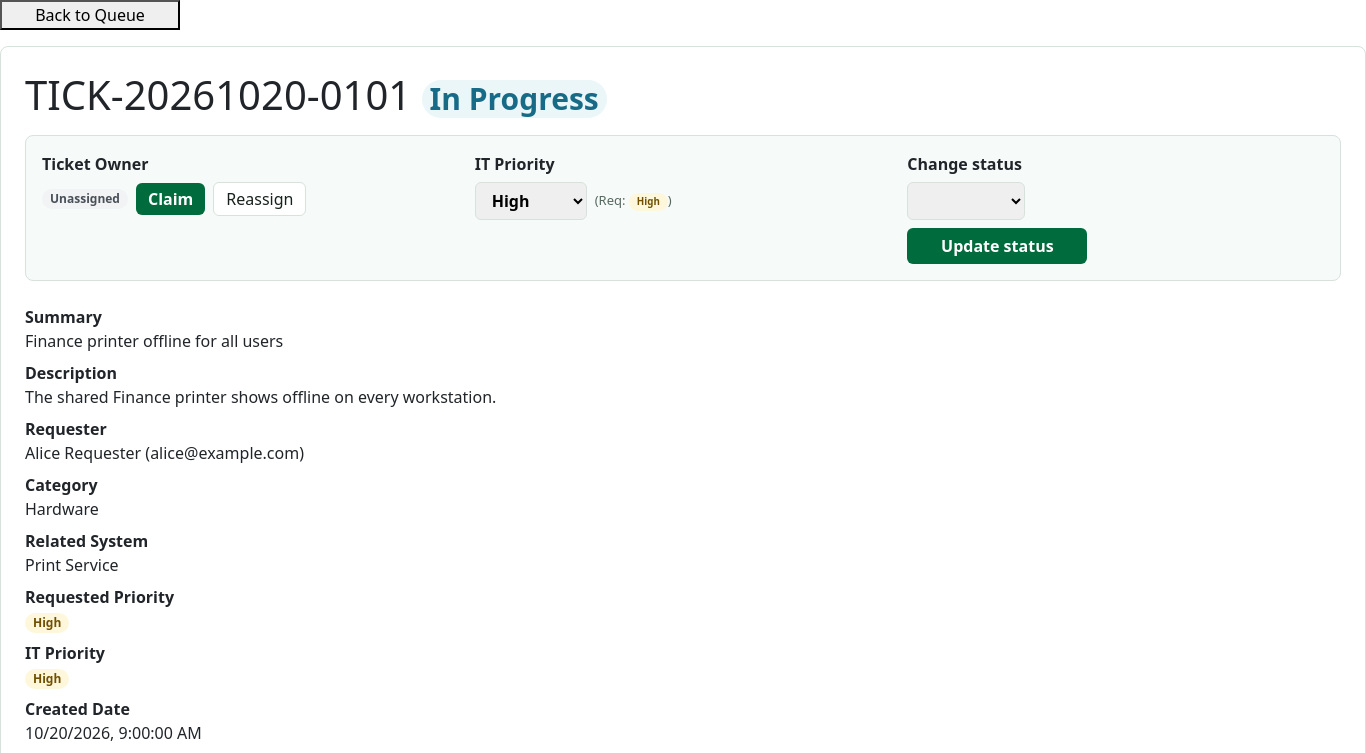
Test: Ticket workflow UI (UI-11 … UI-17) › UI-12: In Progress → Resolved asks for confirmation naming both statuses and sends nothing until confirmed
Expected: the heading "TICK-20261020-0101 In Progress" is shown, x1=25 y1=67 x2=607 y2=122
Select "Resolved" in the dropdown labelled "Change status" at (966, 201), box x1=907 y1=182 x2=1025 y2=220
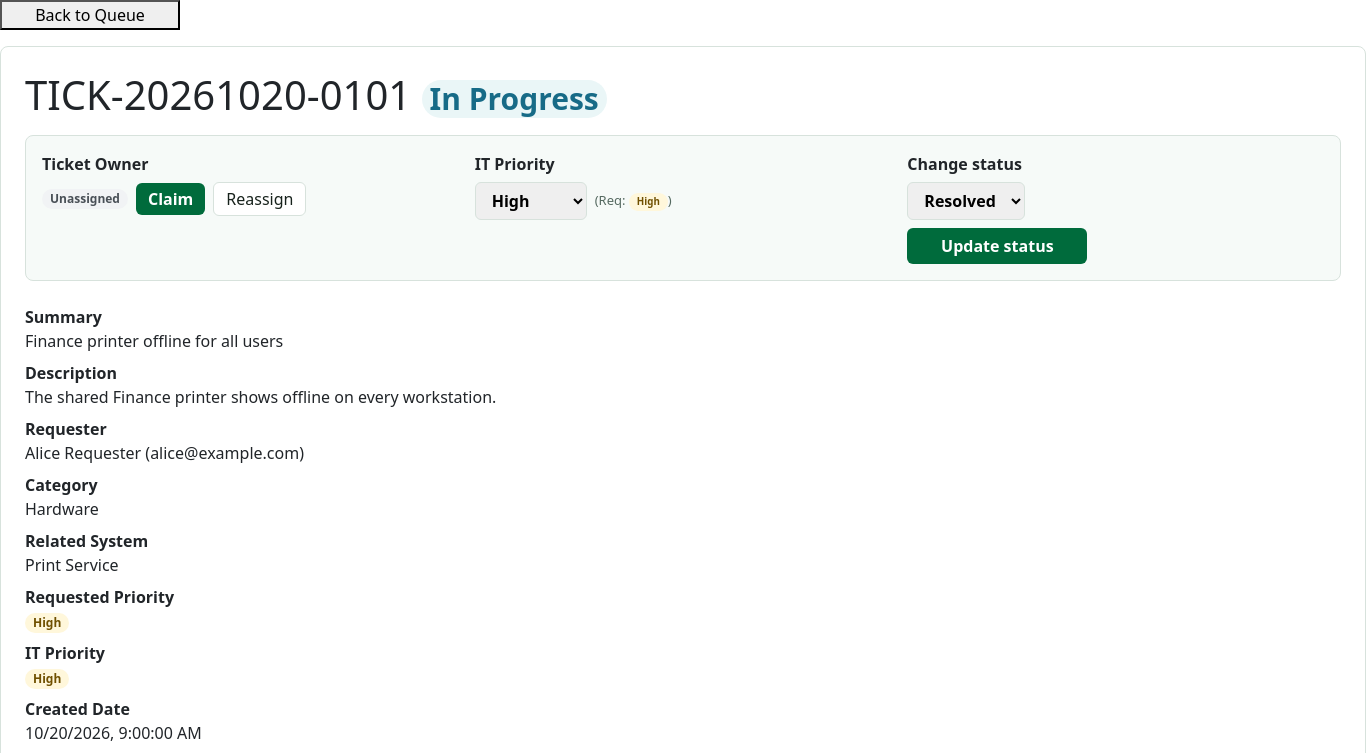
Click the button "Update status" at (997, 246), box x1=907 y1=228 x2=1087 y2=264
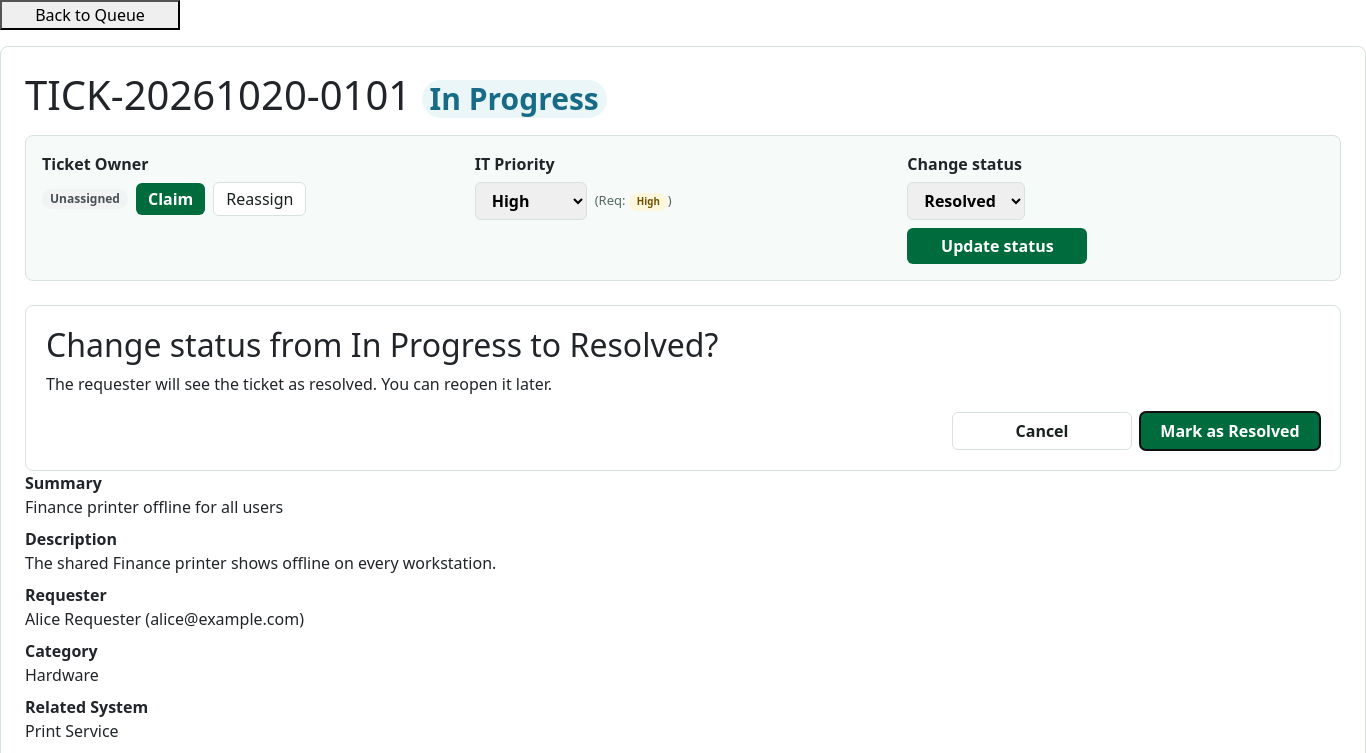
Click the button "Cancel" at (1042, 431), box x1=952 y1=412 x2=1132 y2=450
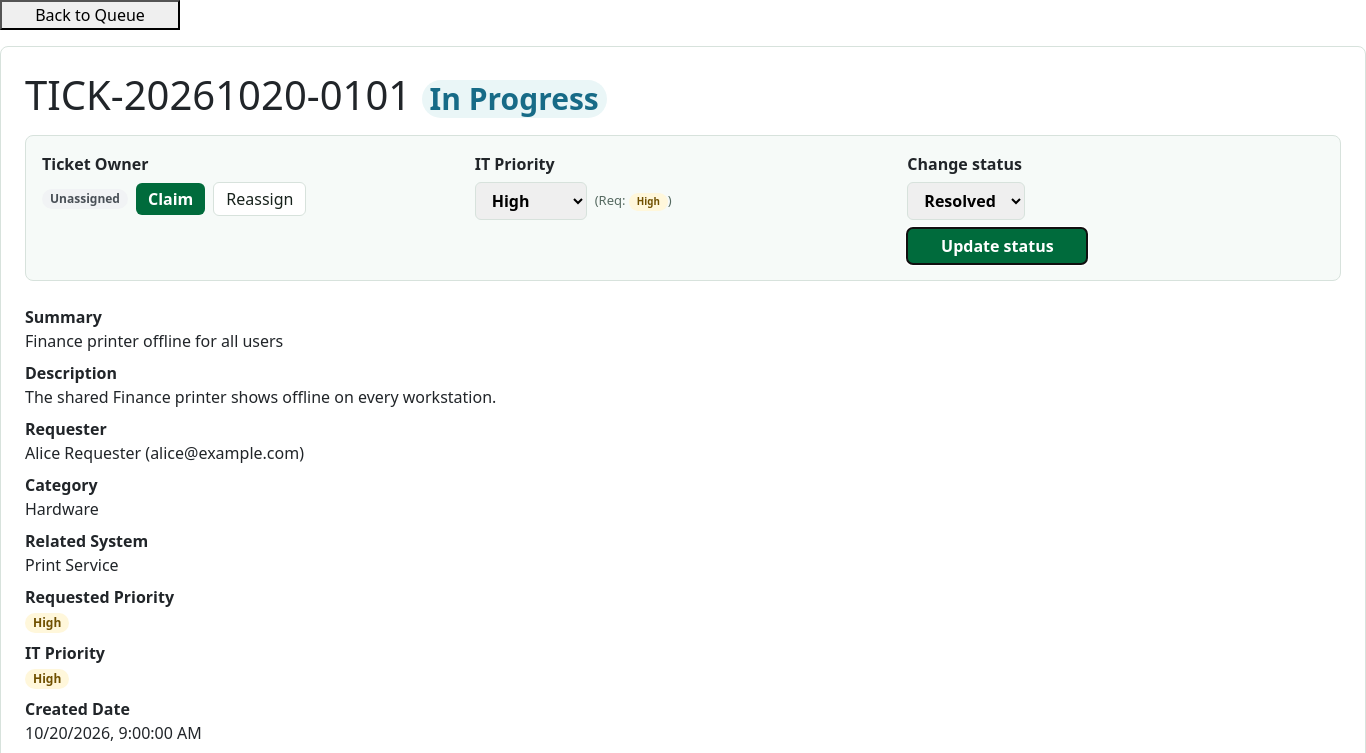
Now the dialog is gone
Click the button "Update status" at (997, 246), box x1=907 y1=228 x2=1087 y2=264
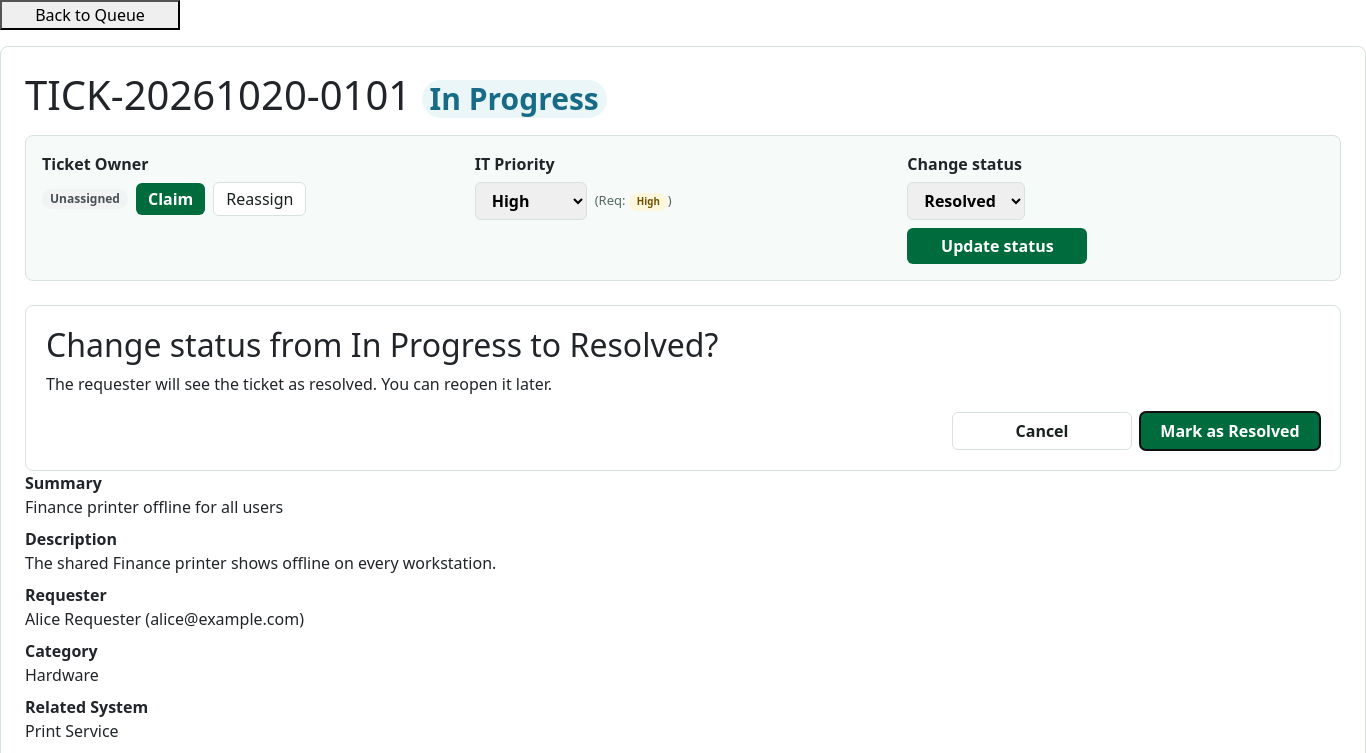
Click the button "Mark as Resolved" at (1230, 431), box x1=1140 y1=412 x2=1320 y2=450
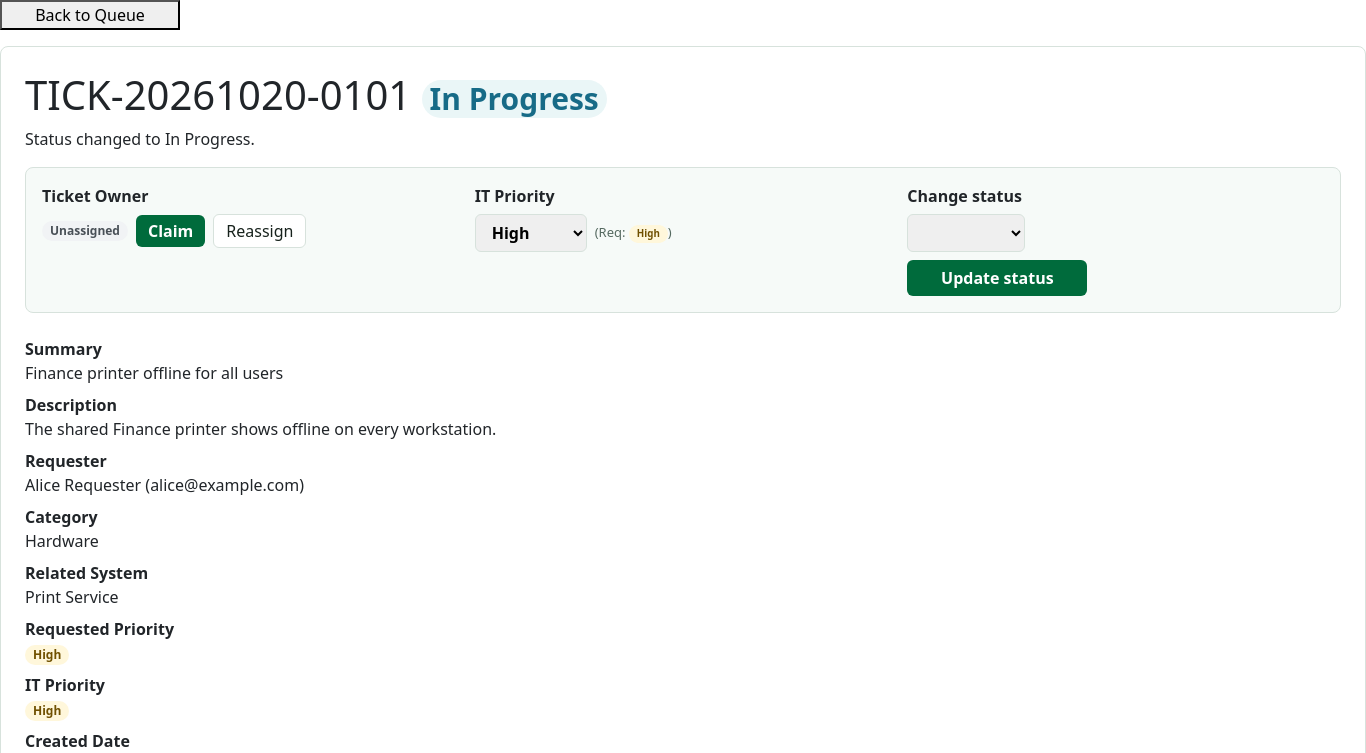
Now the dialog is gone
